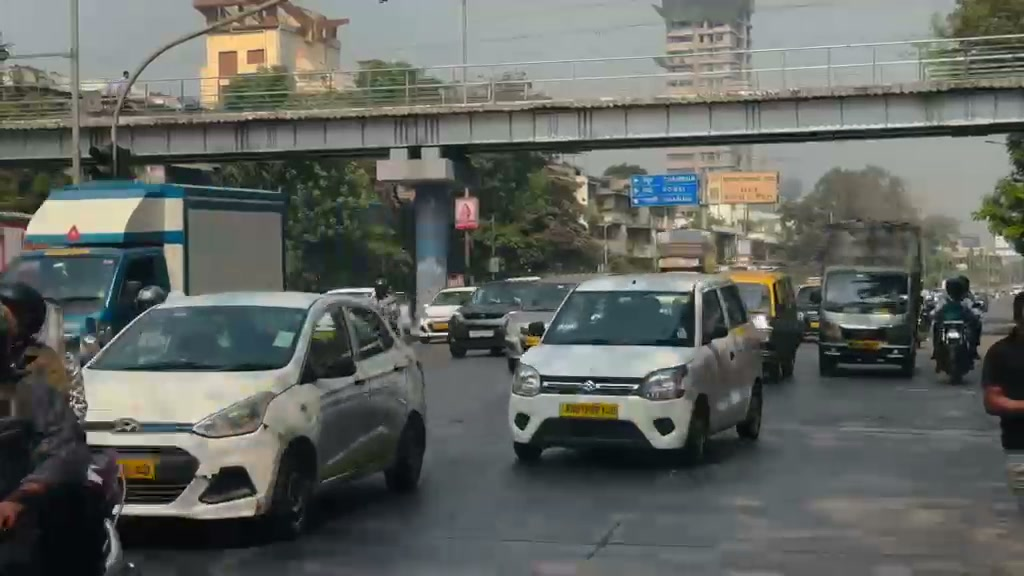car: (77, 289, 431, 548), (506, 272, 769, 467), (729, 270, 803, 382), (447, 278, 540, 357), (500, 280, 576, 366), (418, 286, 479, 341), (795, 285, 822, 332)
motorcycle: (933, 313, 977, 384)
pedestrian: (0, 283, 117, 574), (980, 294, 1024, 453), (929, 277, 983, 370)
truck: (1, 182, 288, 362), (816, 223, 922, 378)
